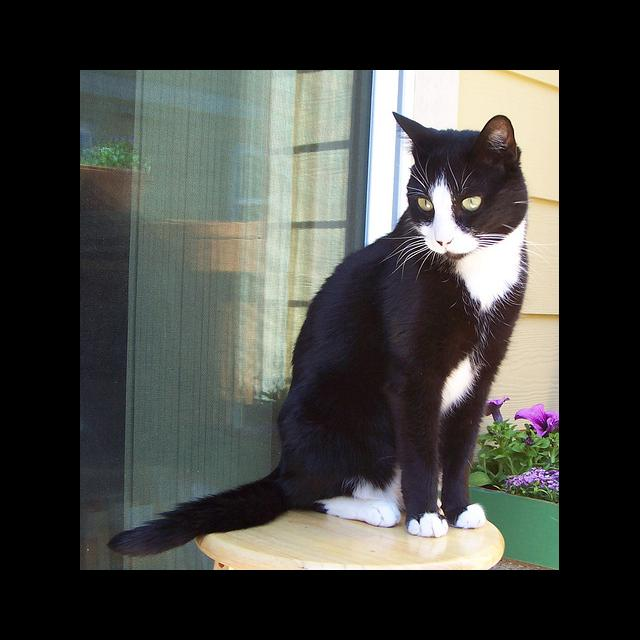animals: (393, 113, 502, 245)
